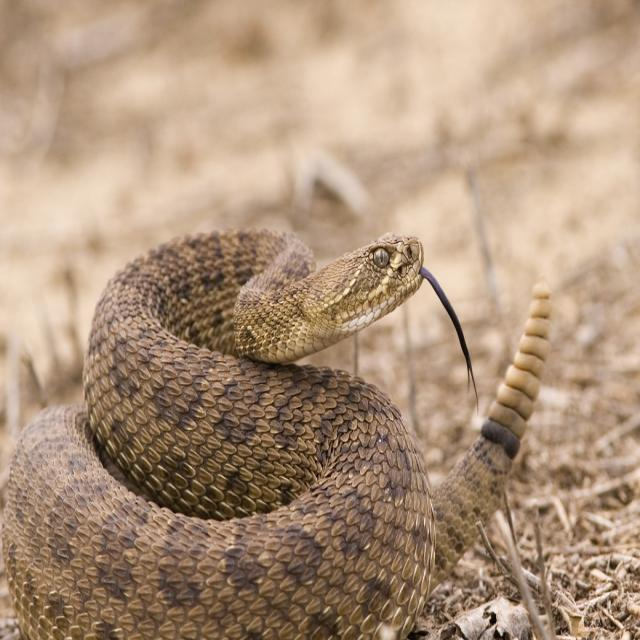Snake: (0, 196, 559, 636)
